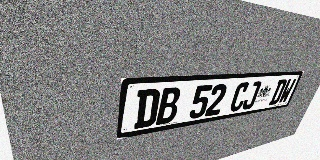2: (205, 83, 228, 117)
5: (188, 85, 213, 119)
B: (156, 87, 182, 125)
C: (228, 82, 251, 112)
D: (133, 88, 161, 129), (268, 79, 288, 105)
J: (241, 81, 262, 110)
W: (277, 78, 297, 104)
